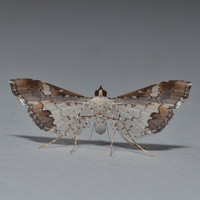insect: (9, 78, 191, 155)
